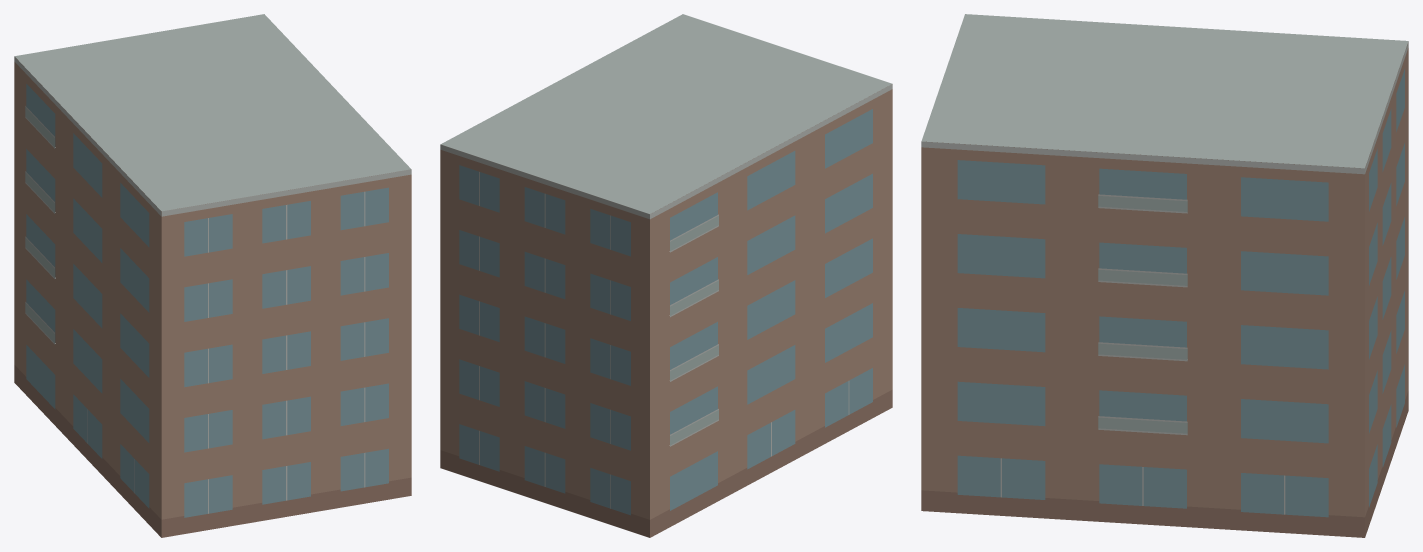
Rendered from survey-upis-32551775.glb.
3 renders of one model, left to right at view 1: azimuth 30°, elevation 25°; view 2: azimuth 150°, elevation 25°; view 3: azimuth 270°, elevation 25°, orthographic. The views are drawn at different scales.
Parts seen in each view (by area): view 1: survey-upis-32551775.tmp; view 2: survey-upis-32551775.tmp; view 3: survey-upis-32551775.tmp.
Boxes of the visible parts, bbox=[...] form: survey-upis-32551775.tmp: bbox=[14, 14, 411, 537]; survey-upis-32551775.tmp: bbox=[440, 14, 892, 537]; survey-upis-32551775.tmp: bbox=[921, 14, 1408, 537].
Size of the model in its own units: 13.67 by 15.25 by 18.23.
